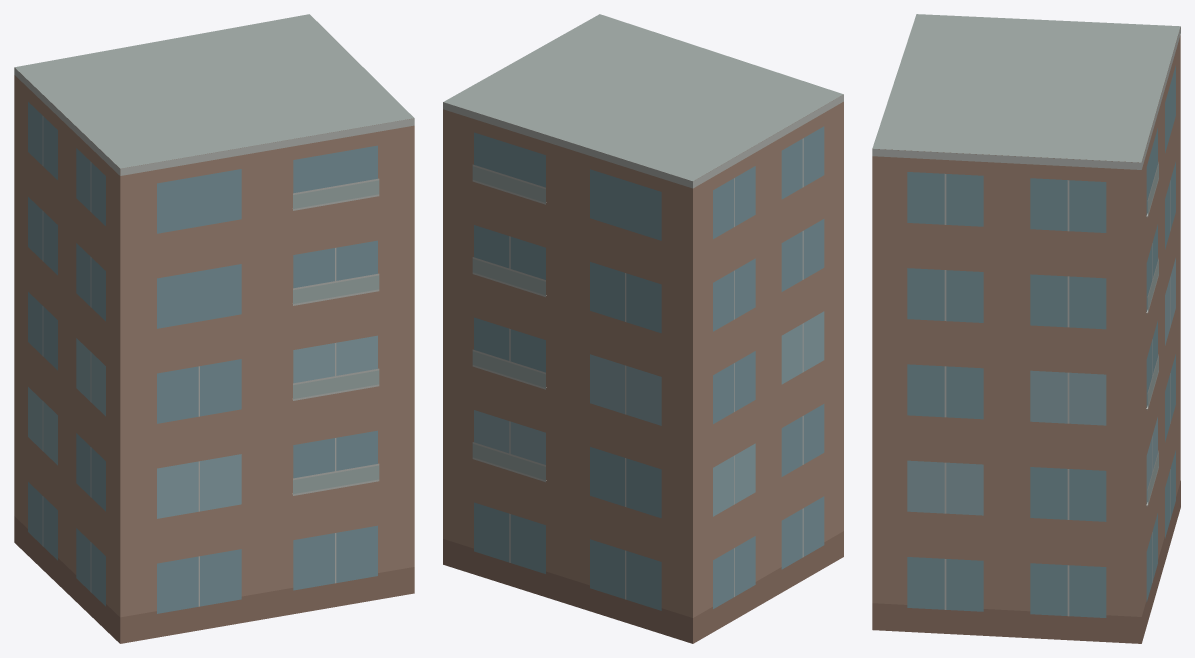
File: survey-upis-32868619.glb
3 renders of one model, left to right at view 1: azimuth 30°, elevation 25°; view 2: azimuth 150°, elevation 25°; view 3: azimuth 270°, elevation 25°, orthographic. The views are drawn at different scales.
Visible parts, largest first — view 1: survey-upis-32868619.tmp; view 2: survey-upis-32868619.tmp; view 3: survey-upis-32868619.tmp.
Part boxes in pixels (<box>): survey-upis-32868619.tmp: <box>14,14,414,643</box>; survey-upis-32868619.tmp: <box>443,14,843,643</box>; survey-upis-32868619.tmp: <box>872,14,1180,643</box>.
Bounding box in the file's own units: 10.4 × 15.7 × 9.13.
